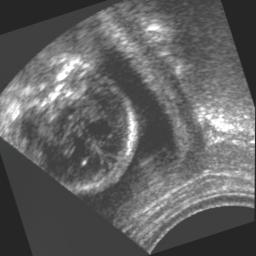abnormal: (0, 35, 156, 215)
